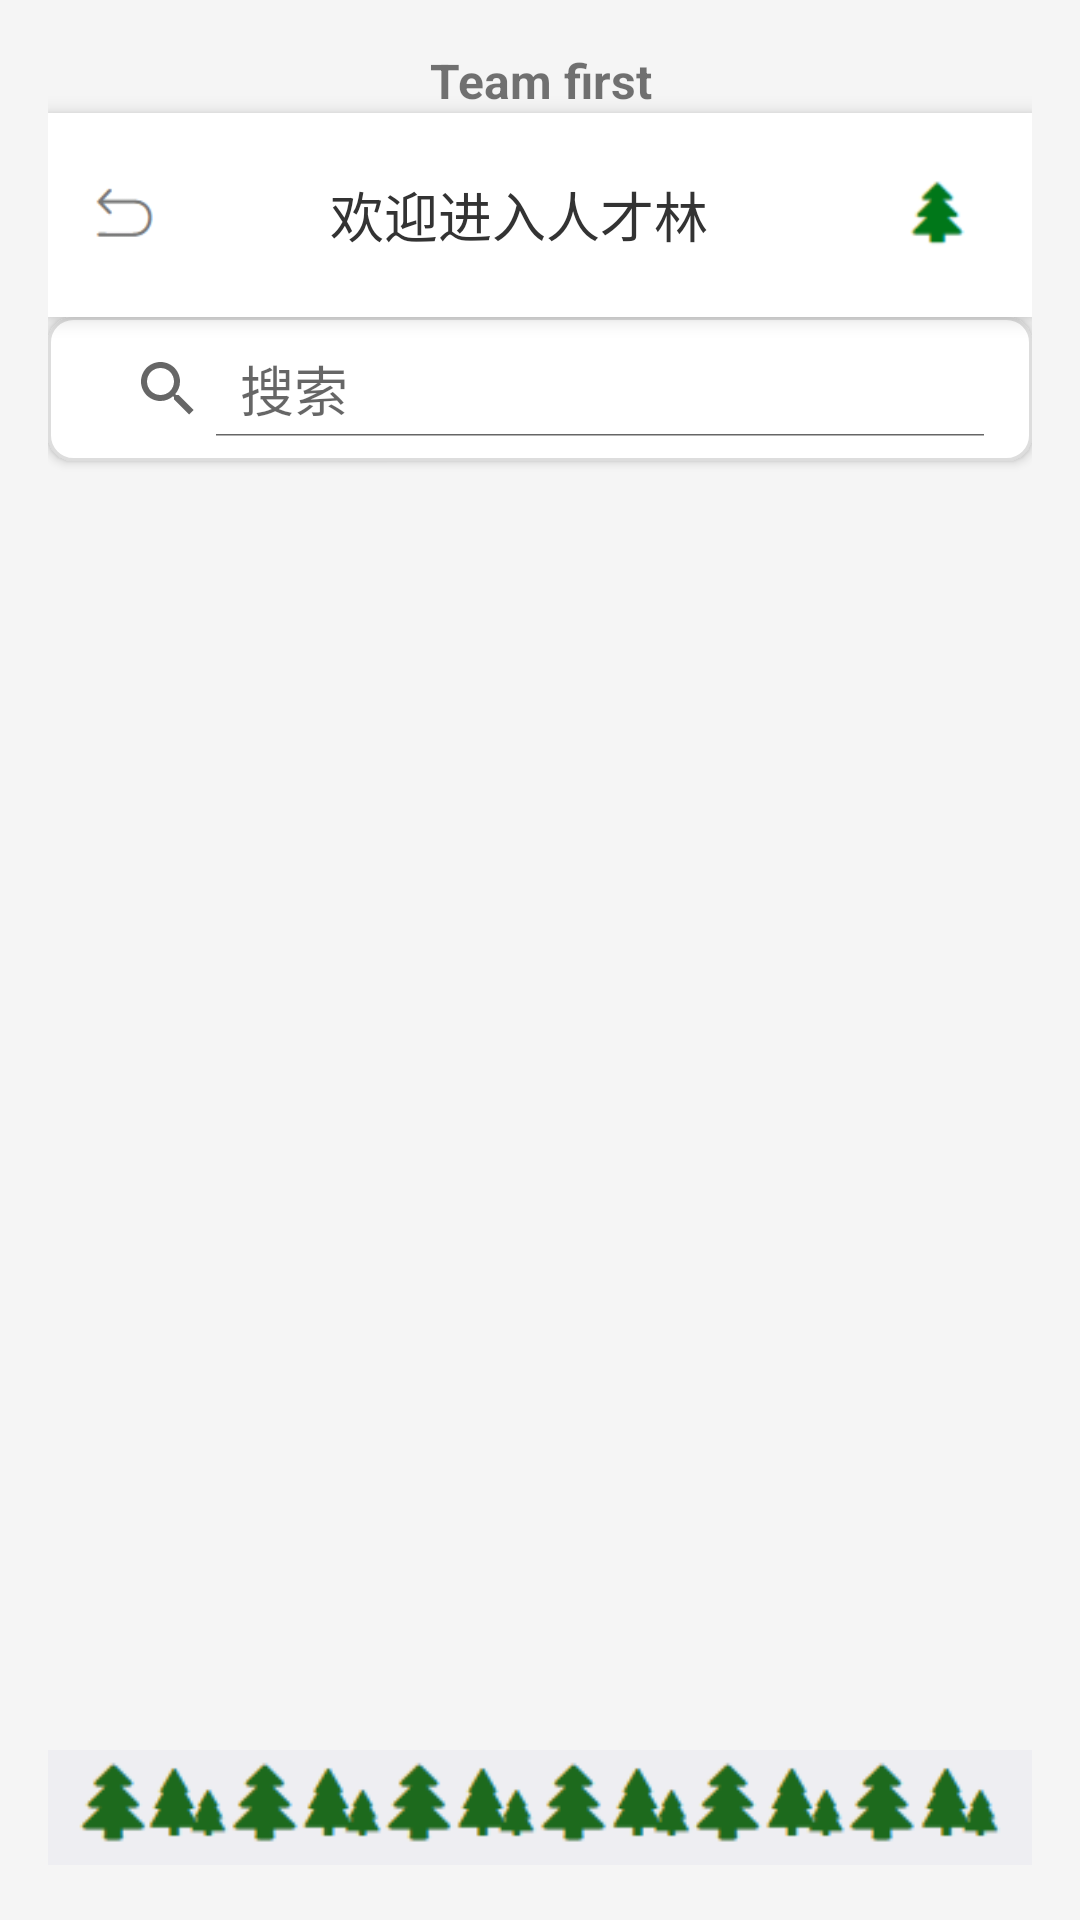

Icon click points for this 1080*1920 phone screenshot, format point (x, y):
back: point (124, 213)
